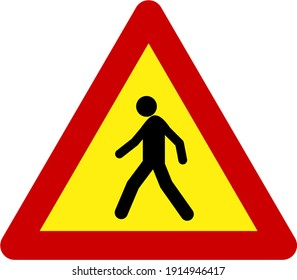pedestrian: (24, 19, 297, 258)
